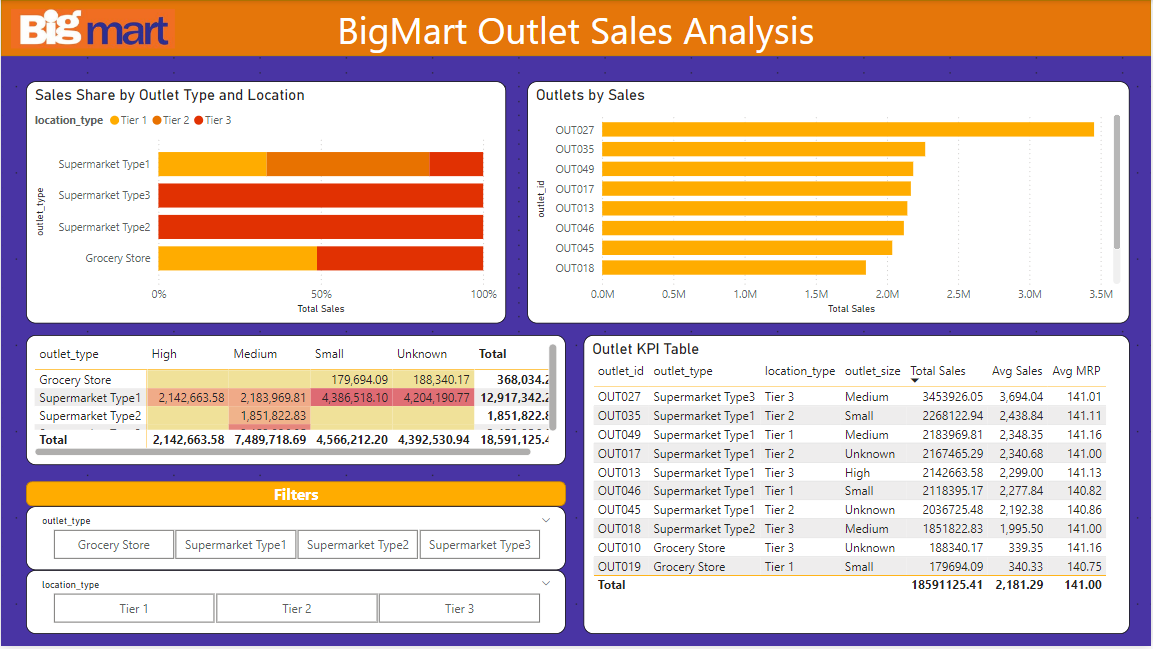

What the dashboard file says about the page in this screenshot:
{"tool":"powerbi","page":{"name":"Outlet Analysis","canvas":[1280,720],"ordinal":1},"visuals":[{"type":"barChart","title":"Outlets by Sales","fields":{"Y":["Measures (2).Total Sales"],"Category":["warehouse vw_sales_overview.outlet_id"]},"box":[585.7,90.4,670.6,269.9],"z":0},{"type":"hundredPercentStackedBarChart","title":"Sales Share by Outlet Type and Location","fields":{"Y":["Measures (2).Total Sales"],"Category":["warehouse vw_sales_overview.outlet_type"],"Series":["warehouse vw_outlet_performance.location_type"]},"box":[27.8,90.4,534.3,269.9],"z":1000},{"type":"tableEx","title":"Outlet KPI Table","fields":{"Values":["warehouse vw_outlet_performance.outlet_id","warehouse vw_outlet_performance.outlet_type","warehouse vw_outlet_performance.location_type","warehouse vw_outlet_performance.outlet_size","Measures (2).Total Sales","Measures (2).Avg Sales","Measures (2).Avg MRP"]},"box":[648.3,372.9,608,332.5],"z":2000},{"type":"pivotTable","fields":{"Rows":["warehouse vw_sales_overview.outlet_type"],"Columns":["warehouse vw_sales_overview.outlet_size"],"Values":["Measures (2).Total Sales"]},"box":[27.8,372.9,601,144.7],"z":3000},{"type":"shape","box":[0,0,1280,62.6],"z":4000},{"type":"image","box":[11.1,8.3,182.3,47.3],"z":5000},{"type":"slicer","fields":{"Values":["warehouse vw_sales_overview.outlet_type"]},"box":[27.8,563.5,601,71],"z":6000},{"type":"slicer","fields":{"Values":["warehouse vw_sales_overview.location_type"]},"box":[27.8,634.4,601,71],"z":7000},{"type":"shape","title":"F","box":[27.8,535.7,601,27.8],"z":8000}]}

Visuals, with their boxes in screenshot pixels (x1, y1, x2, y2), scaled from the page's 1280x720 canvas onto the 1153x649 screenshot:
"Outlets by Sales" barChart: x1=528 y1=81 x2=1132 y2=325
"Sales Share by Outlet Type and Location" hundredPercentStackedBarChart: x1=25 y1=81 x2=506 y2=325
"Outlet KPI Table" tableEx: x1=584 y1=336 x2=1132 y2=636
pivotTable - warehouse vw_sales_overview.outlet_type x warehouse vw_sales_overview.outlet_size: x1=25 y1=336 x2=566 y2=467
shape: x1=0 y1=0 x2=1152 y2=56
image: x1=10 y1=7 x2=174 y2=50
slicer - warehouse vw_sales_overview.outlet_type: x1=25 y1=508 x2=566 y2=572
slicer - warehouse vw_sales_overview.location_type: x1=25 y1=572 x2=566 y2=636
"F" shape: x1=25 y1=483 x2=566 y2=508
